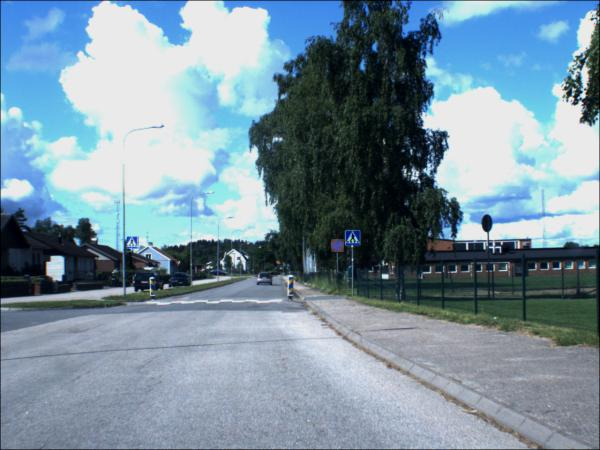NO_PARKING: (332, 240, 346, 254)
PEDESTRIAN_CROSSING: (347, 232, 362, 248), (129, 238, 141, 251)
